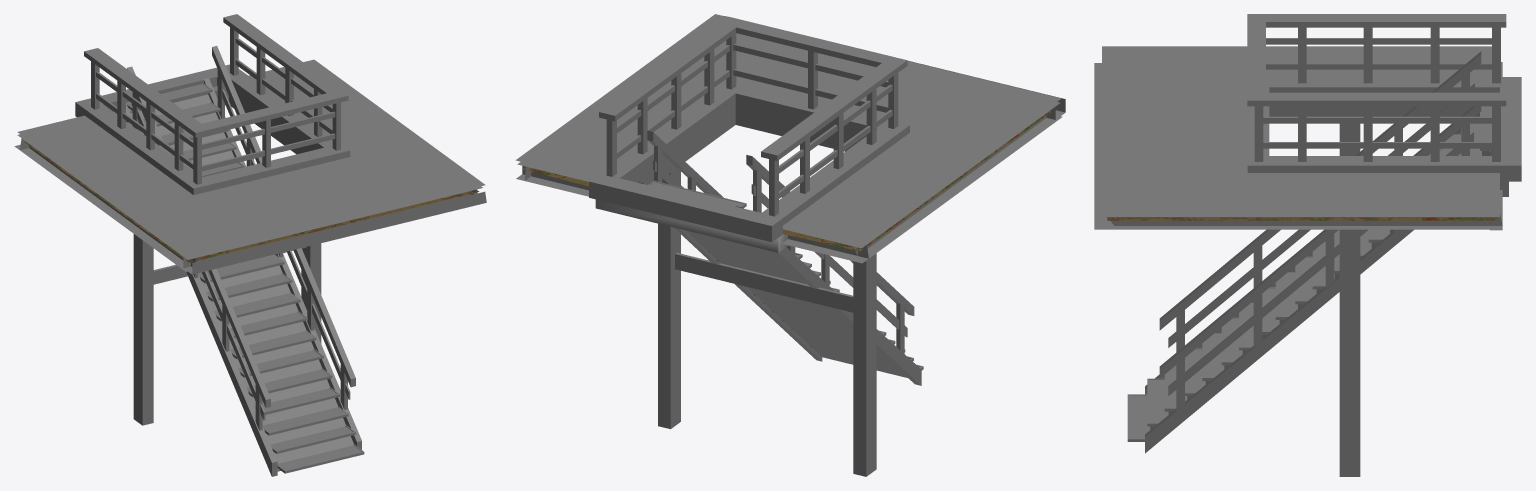
File: FL4_Stairs.fbx
3 renders of one model, left to right at view 1: azimuth 30°, elevation 25°; view 2: azimuth 150°, elevation 25°; view 3: azimuth 270°, elevation 25°, orthographic. The views are drawn at different scales.
Parts seen in each view (by area): view 1: FL4_Stairs; view 2: FL4_Stairs; view 3: FL4_Stairs.
Part boxes in pixels (box(x1,y1,x2,y2)): FL4_Stairs: box(14, 14, 486, 476); FL4_Stairs: box(515, 14, 1065, 476); FL4_Stairs: box(1094, 14, 1521, 476).
Bounding box in the file's own units: 505 × 516 × 540.
